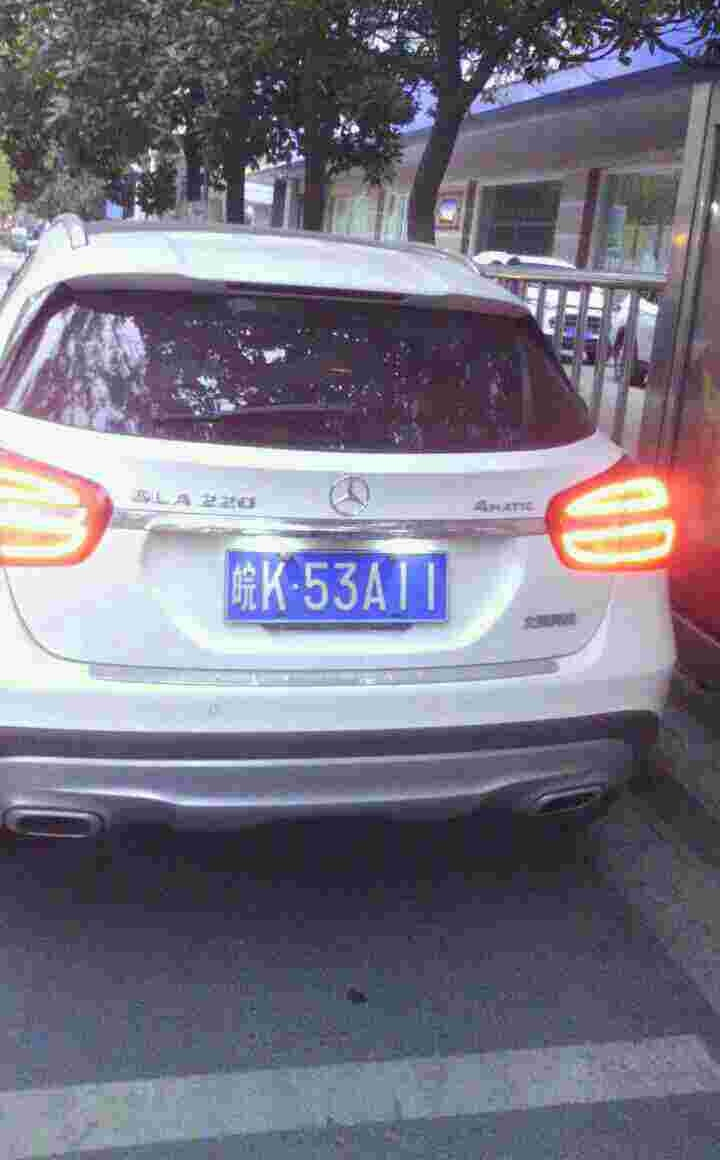license_plate: (228, 548, 453, 610)
